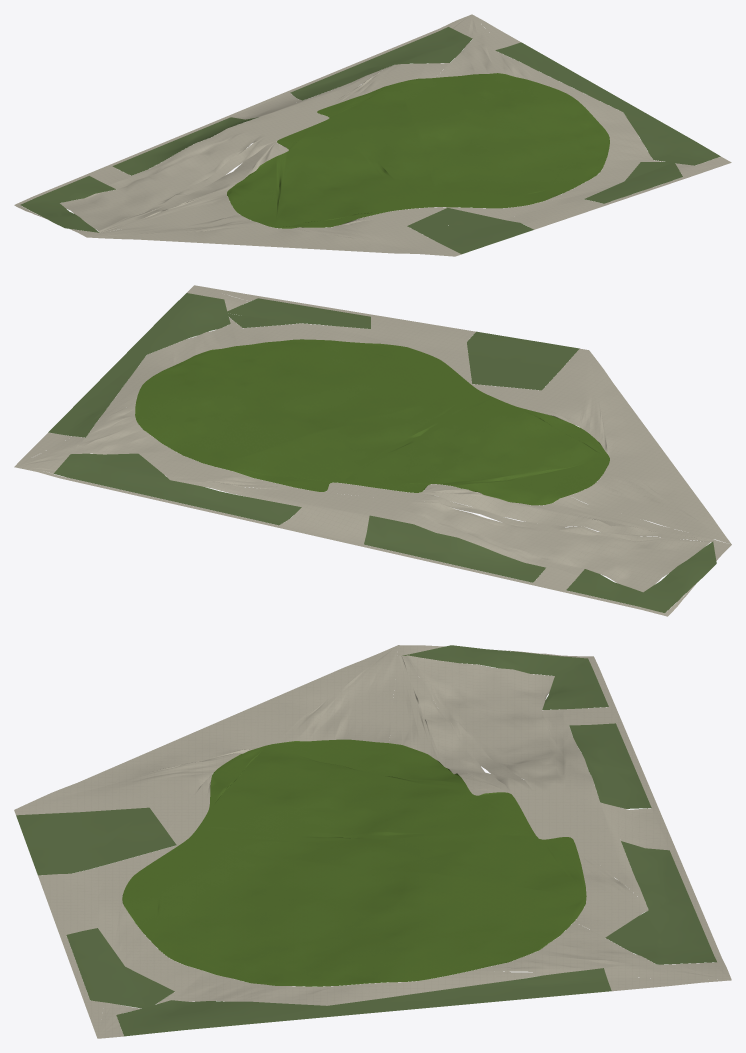
3 views of the same model, one above another, from view 1: azimuth 30°, elevation 25°; view 2: azimuth 150°, elevation 25°; view 3: azimuth 270°, elevation 25° (orthographic). The views are drawn at different scales.
Visible parts, largest first — view 1: Kidney-shaped central lawn, Plan-derived concrete circulation, Plan-derived planting pocket (×6); view 2: Plan-derived concrete circulation, Kidney-shaped central lawn, Plan-derived planting pocket (×6); view 3: Kidney-shaped central lawn, Plan-derived concrete circulation, Plan-derived planting pocket (×6).
Boxes of the visible parts, x1,y1,x2,y2 form: Kidney-shaped central lawn: (227, 73, 609, 228); Plan-derived concrete circulation: (14, 14, 731, 256); Plan-derived planting pocket (×6): (20, 27, 720, 254); Plan-derived concrete circulation: (14, 285, 731, 616); Kidney-shaped central lawn: (135, 339, 609, 505); Plan-derived planting pocket (×6): (48, 293, 716, 613); Kidney-shaped central lawn: (122, 739, 586, 986); Plan-derived concrete circulation: (14, 645, 731, 1038); Plan-derived planting pocket (×6): (16, 645, 716, 1036).
Bounding box in the file's own units: 143 × 8.71 × 104.
